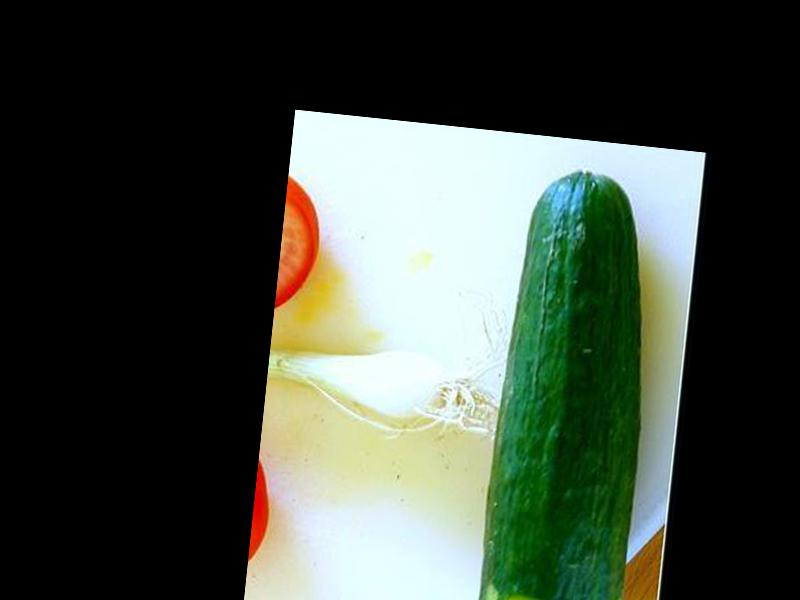Cucumber: (476, 162, 668, 600)
